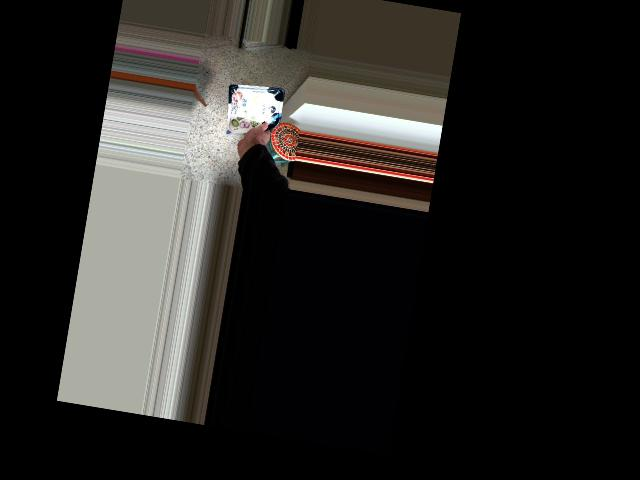cheese: (220, 91, 284, 160)
